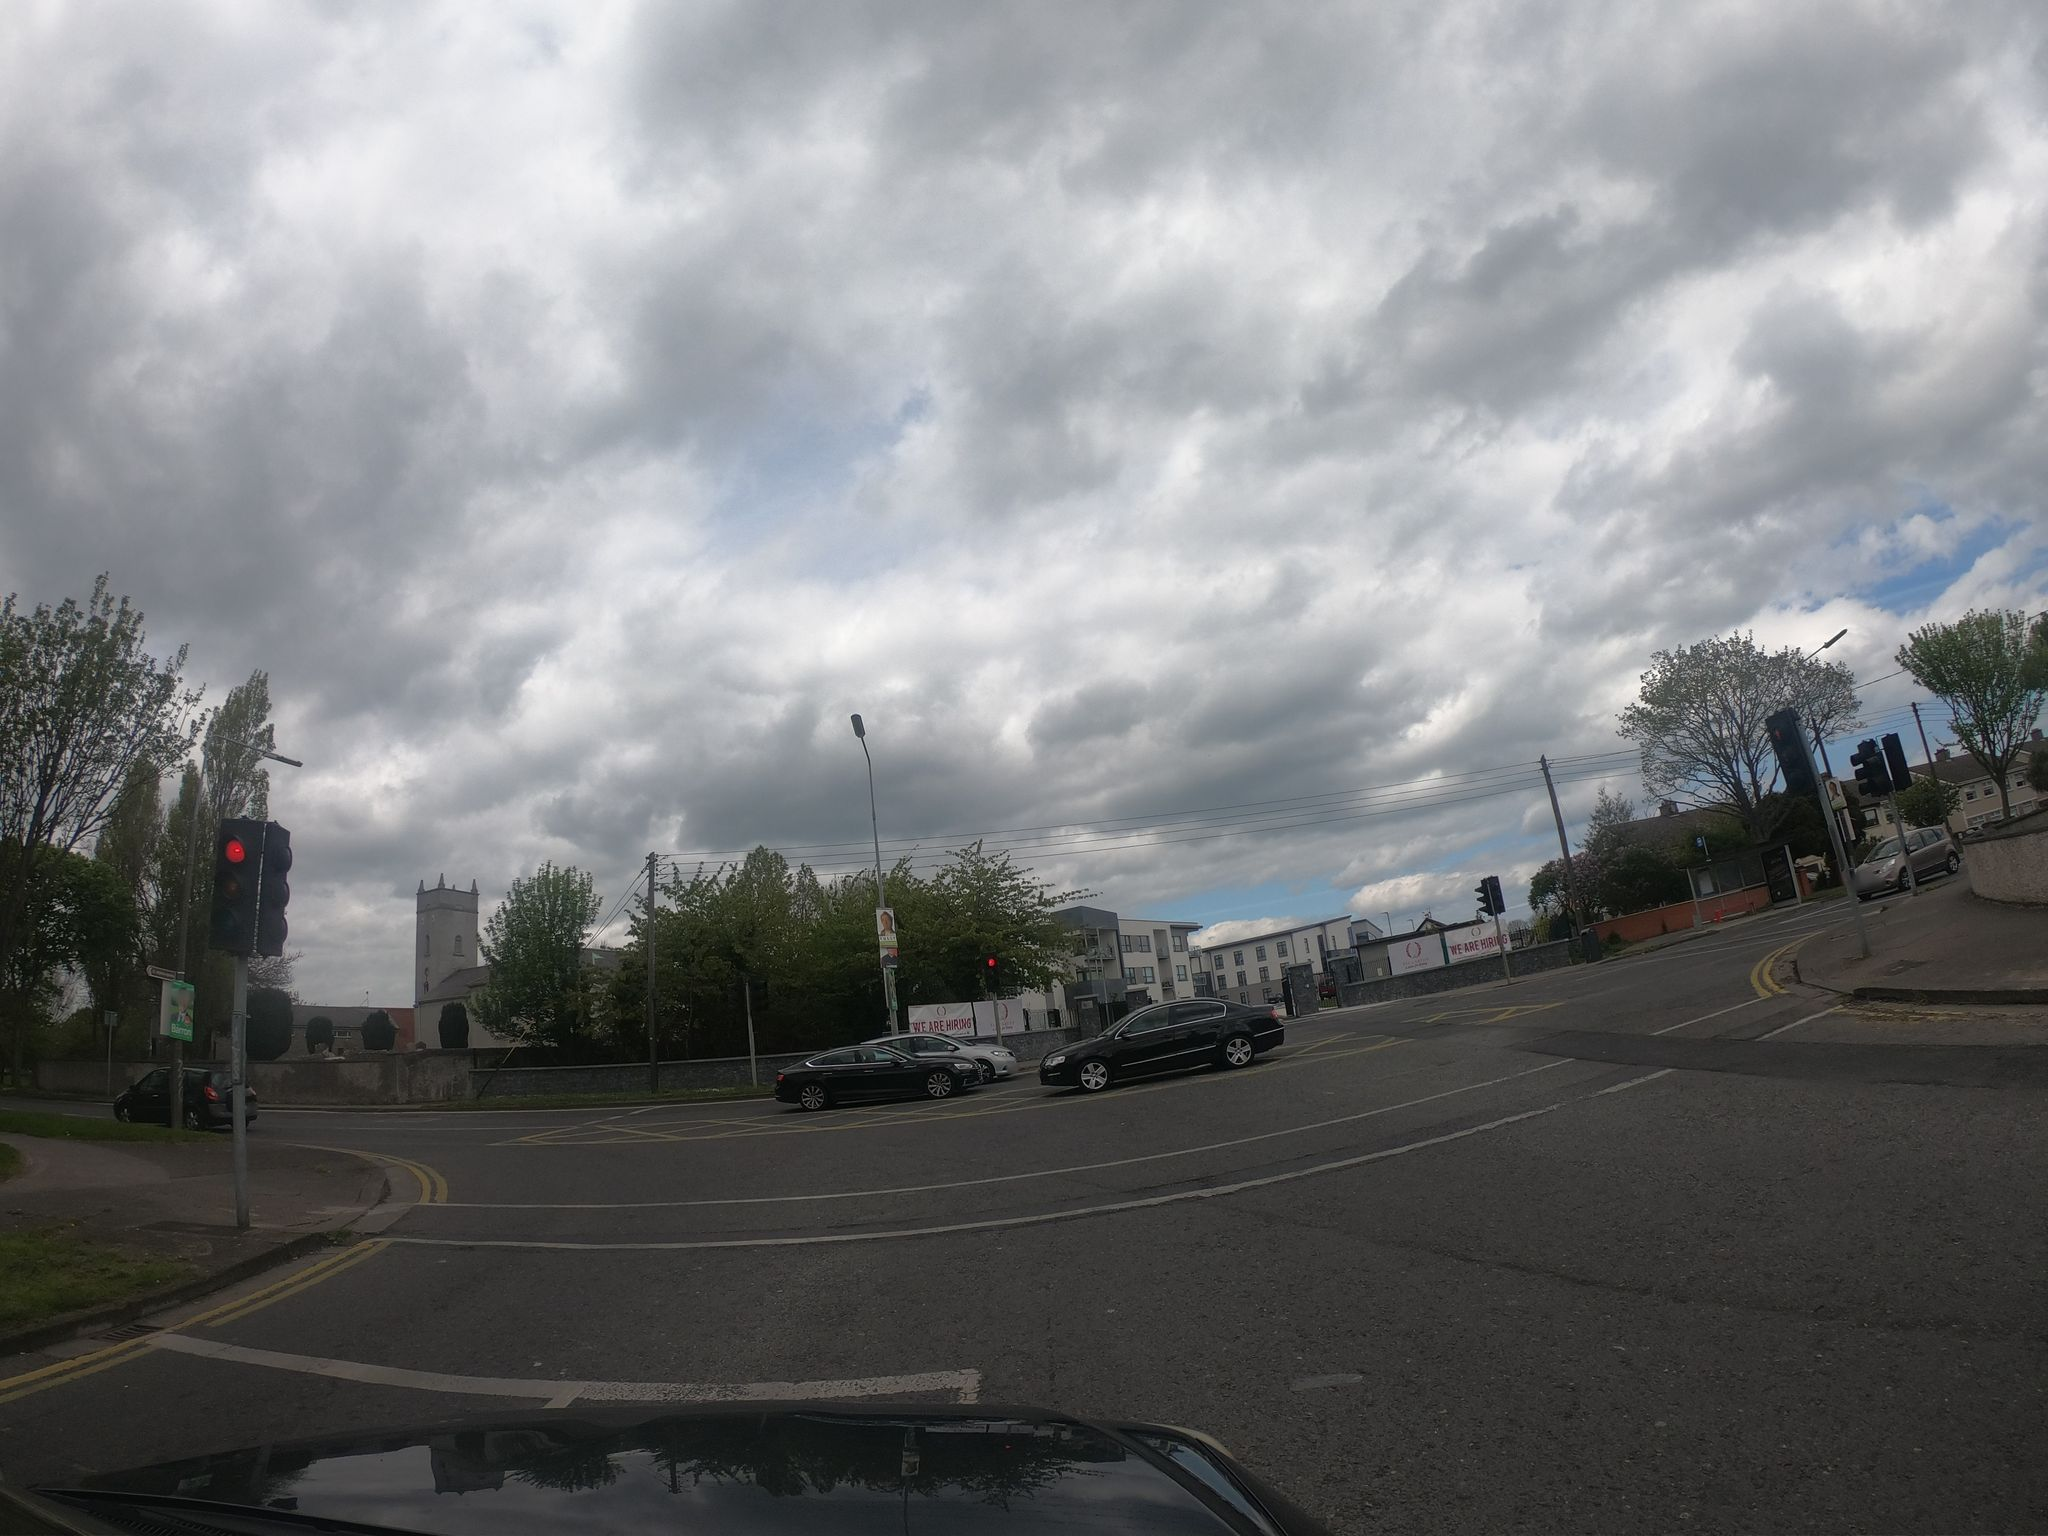vinyl banner: (1434, 915, 1530, 973), (897, 986, 984, 1049)
